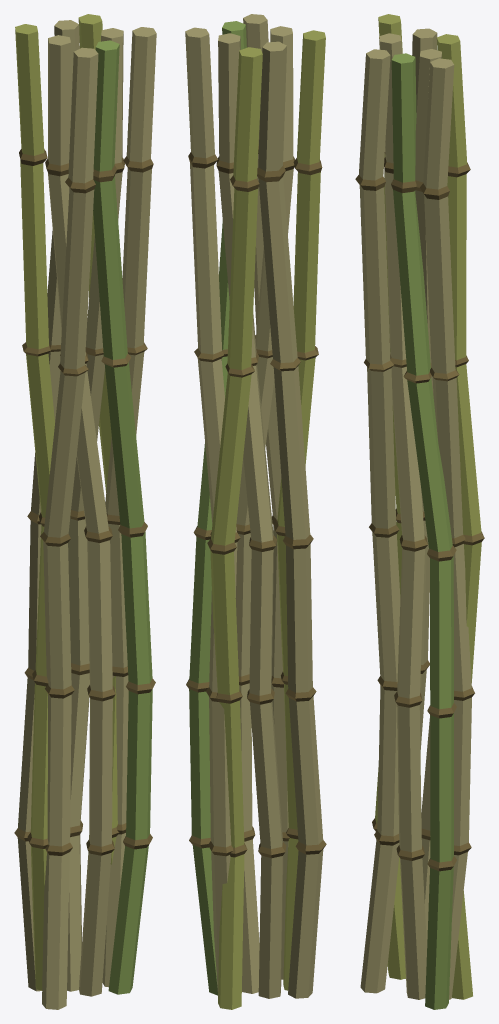
File: bamboo.glb
3 renders of one model, left to right at view 1: azimuth 30°, elevation 25°; view 2: azimuth 210°, elevation 25°; view 3: azimuth 330°, elevation 25°, orthographic.
Parts seen in each view (by area): view 1: bamboo_pole.002, bamboo_pole.003, bamboo_pole.001, bamboo_pole.008, bamboo_pole.004, bamboo_pole.006, bamboo_pole.007, bamboo_pole.005, bamboo_pole.019, bamboo_pole.018, bamboo_pole.017, bamboo_pole.024 (+3 smaller); view 2: bamboo_pole.007, bamboo_pole.005, bamboo_pole.006, bamboo_pole.004, bamboo_pole.008, bamboo_pole.001, bamboo_pole.003, bamboo_pole.002, bamboo_pole.023, bamboo_pole.021, bamboo_pole.022, bamboo_pole.020 (+3 smaller); view 3: bamboo_pole.003, bamboo_pole.002, bamboo_pole.001, bamboo_pole.004, bamboo_pole.005, bamboo_pole.006, bamboo_pole.008, bamboo_pole.007, bamboo_pole.019, bamboo_pole.018, bamboo_pole.017, bamboo_pole.020 (+1 smaller).
Part boxes in pixels (x1,y1,x2,y2): bamboo_pole.002: [42, 47, 98, 1009]; bamboo_pole.003: [93, 40, 152, 994]; bamboo_pole.001: [48, 35, 112, 996]; bamboo_pole.008: [15, 24, 54, 990]; bamboo_pole.004: [102, 27, 156, 987]; bamboo_pole.006: [67, 28, 123, 991]; bamboo_pole.007: [17, 20, 79, 991]; bamboo_pole.005: [78, 14, 117, 864]; bamboo_pole.019: [93, 165, 155, 849]; bamboo_pole.018: [40, 177, 95, 855]; bamboo_pole.017: [45, 158, 115, 855]; bamboo_pole.024: [19, 149, 50, 848]; bamboo_pole.007: [258, 41, 323, 998]; bamboo_pole.005: [210, 47, 262, 1009]; bamboo_pole.006: [218, 33, 283, 998]; bamboo_pole.004: [185, 27, 237, 991]; bamboo_pole.008: [277, 30, 325, 990]; bamboo_pole.001: [235, 26, 293, 993]; bamboo_pole.003: [189, 21, 246, 995]; bamboo_pole.002: [243, 14, 288, 979]; bamboo_pole.023: [257, 166, 326, 854]; bamboo_pole.021: [207, 175, 259, 857]; bamboo_pole.022: [216, 156, 286, 858]; bamboo_pole.020: [188, 152, 240, 856]; bamboo_pole.003: [391, 53, 453, 1009]; bamboo_pole.002: [359, 49, 400, 993]; bamboo_pole.001: [379, 33, 426, 999]; bamboo_pole.004: [423, 58, 471, 999]; bamboo_pole.005: [436, 34, 481, 999]; bamboo_pole.006: [415, 49, 441, 947]; bamboo_pole.008: [375, 14, 405, 979]; bamboo_pole.007: [405, 28, 437, 978]; bamboo_pole.019: [391, 179, 456, 871]; bamboo_pole.018: [355, 175, 399, 845]; bamboo_pole.017: [384, 157, 427, 860]; bamboo_pole.020: [420, 183, 474, 855].
Bounding box in the file's own units: 0.2503 × 2.06 × 0.2292.
